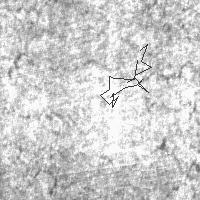crazing: (2, 52, 196, 137), (5, 139, 200, 199), (100, 44, 151, 107)
